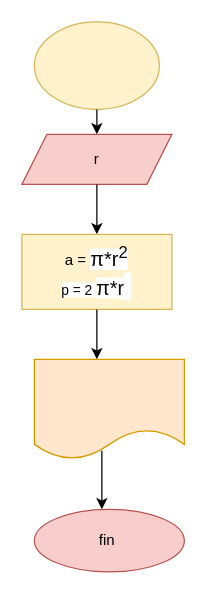
This 206x594 diagram has some shape labels left out. Each missing label, with the centre of its shape:
"a,p" goes at (108,408).
"inicio" goes at (96,65).
